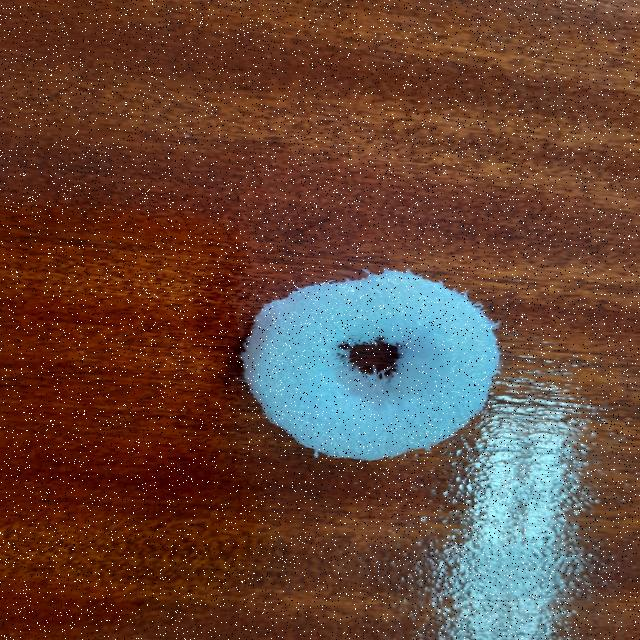wheel: (237, 265, 502, 462)
